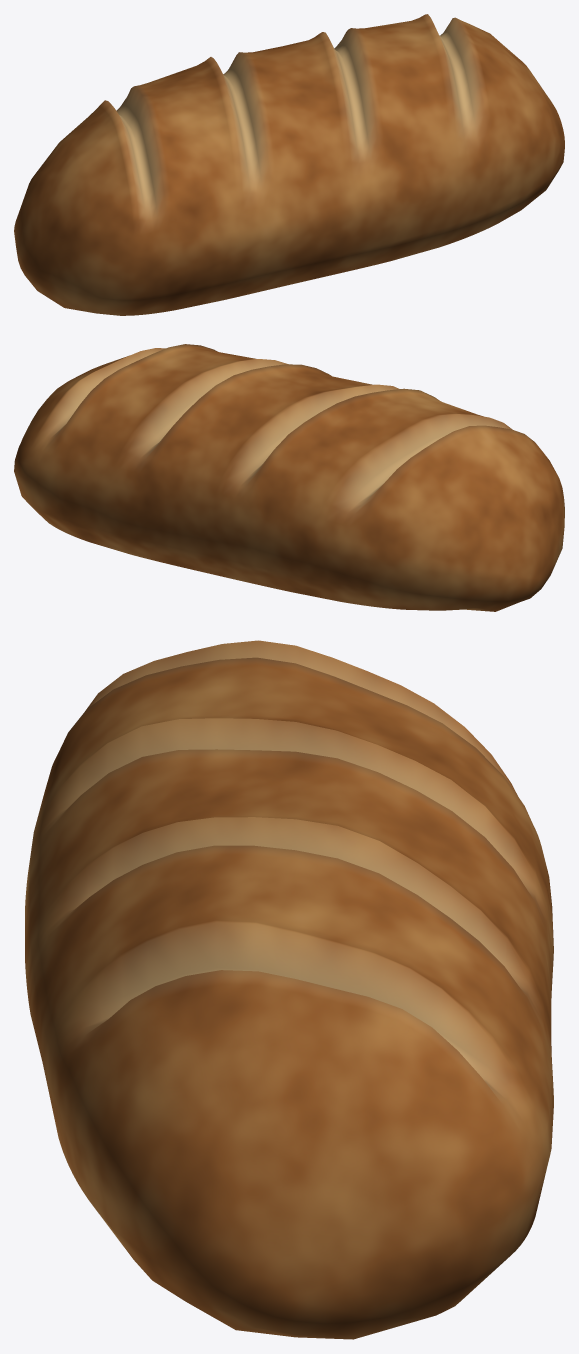
The model's file is Bread_LOD0.fbx.
3 views of the same model, one above another, from view 1: azimuth 30°, elevation 25°; view 2: azimuth 150°, elevation 25°; view 3: azimuth 270°, elevation 25° (orthographic). The views are drawn at different scales.
Visible parts, largest first — view 1: Body_LOD0; view 2: Body_LOD0; view 3: Body_LOD0.
Part boxes in pixels (left/top/right/bottom): Body_LOD0: left=14, top=14, right=564, bottom=315; Body_LOD0: left=14, top=344, right=564, bottom=611; Body_LOD0: left=25, top=640, right=553, bottom=1339.
Bounding box in the file's own units: 0.26 × 0.085 × 0.12.
